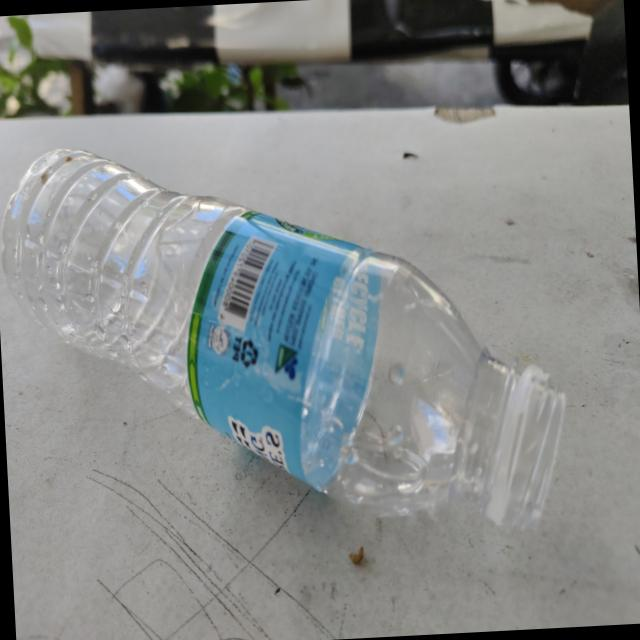Bottle: (3, 149, 565, 527)
